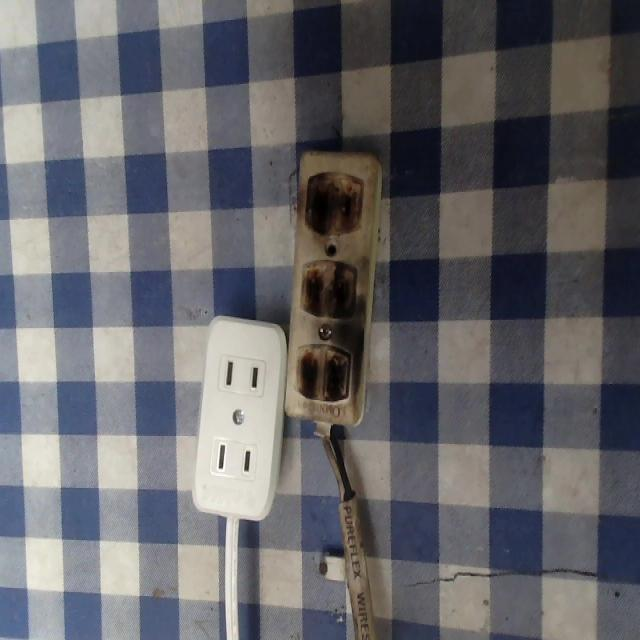-: (298, 248, 359, 323), (300, 164, 366, 233), (293, 342, 357, 406)
